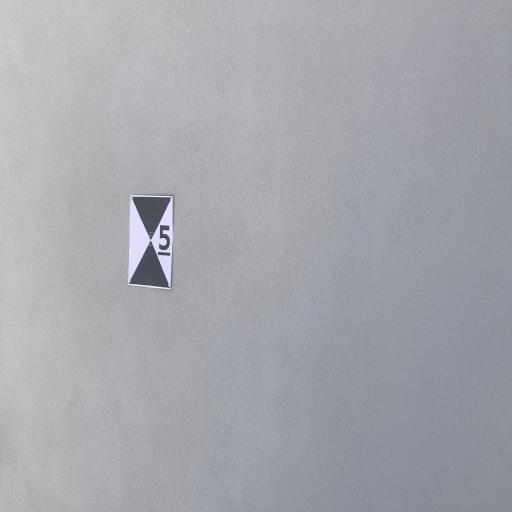target5: (128, 194, 174, 286)
